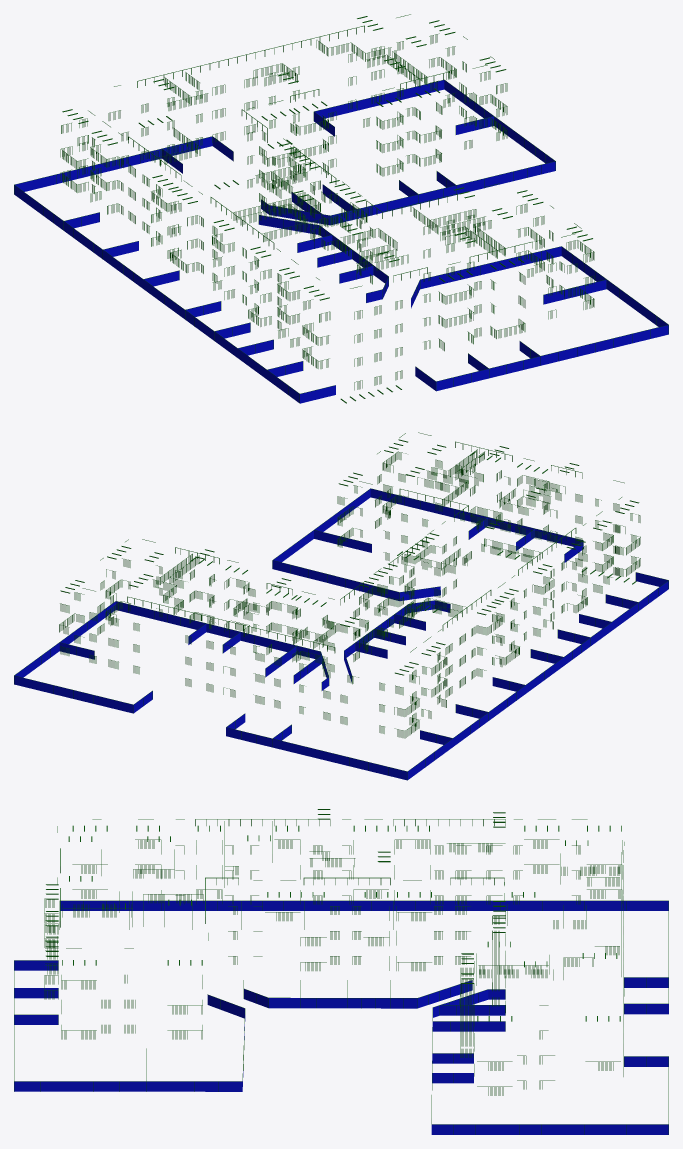
Rendered from Barierki.fbx.
3 views of the same model, one above another, from view 1: azimuth 30°, elevation 25°; view 2: azimuth 150°, elevation 25°; view 3: azimuth 270°, elevation 25° (orthographic). The views are drawn at different scales.
Visible parts, largest first — view 1: Barierki; view 2: Barierki; view 3: Barierki.
Part boxes in pixels (<box>): Barierki: <box>14,14,668,403</box>; Barierki: <box>14,432,668,780</box>; Barierki: <box>14,809,668,1134</box>.
Bounding box in the file's own units: 5628 × 6959 × 1514.
